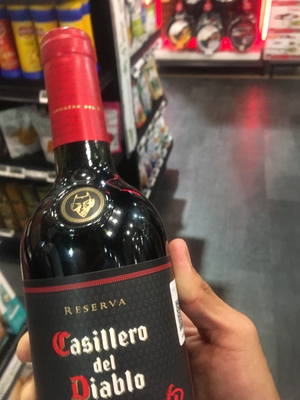casillero del diablo red blend: (19, 30, 195, 400)
